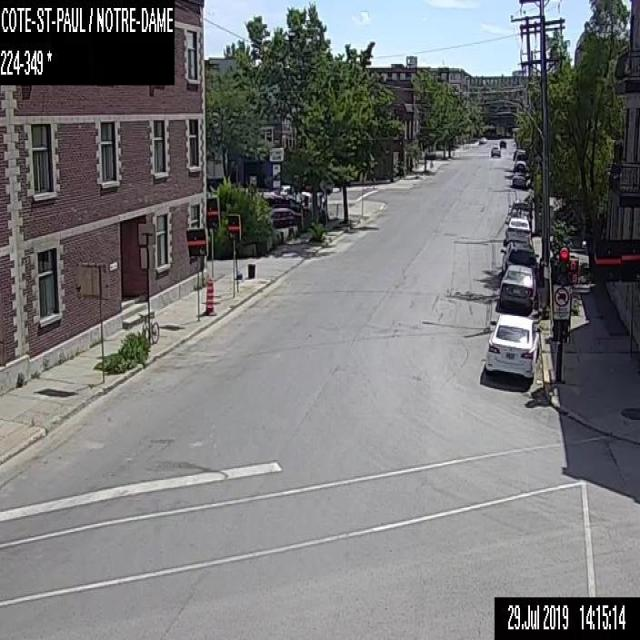construction: (204, 276, 213, 315)
vehicle: (485, 313, 541, 382), (499, 264, 536, 312), (499, 240, 538, 274), (265, 207, 302, 227), (503, 216, 531, 242), (508, 199, 532, 223), (511, 171, 526, 188), (513, 160, 527, 171), (514, 148, 526, 160), (490, 144, 500, 156), (498, 139, 506, 148), (478, 136, 486, 144), (512, 149, 516, 160)
